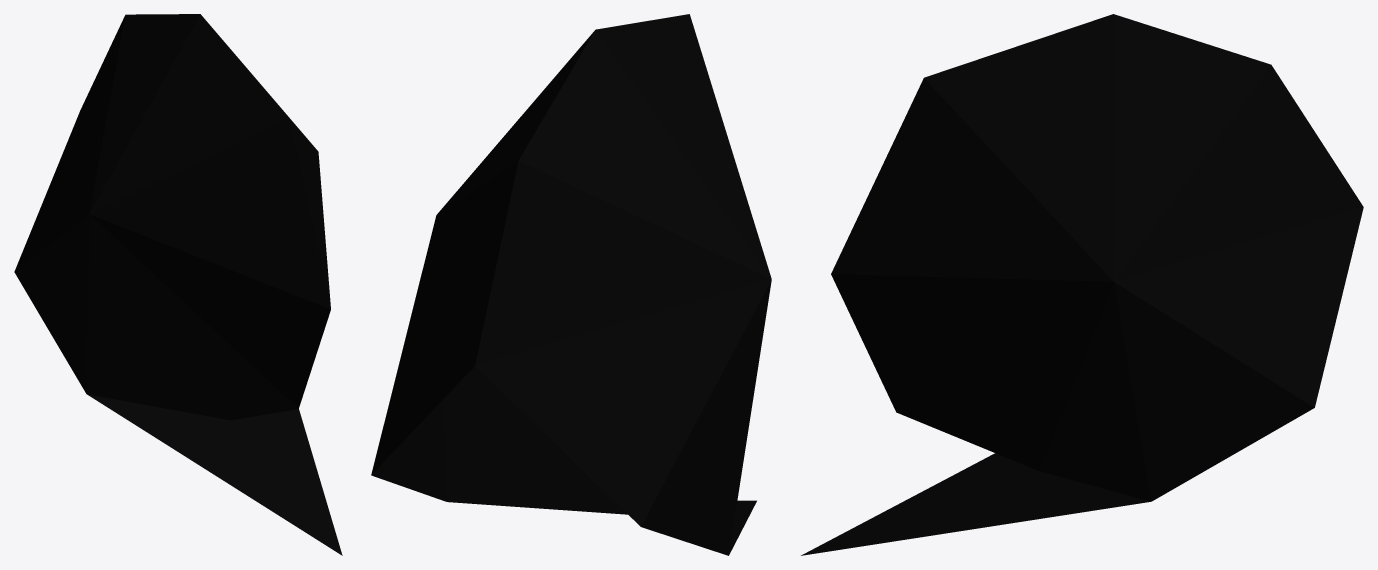
Rendered from 0464_weiqiu.glb.
3 renders of one model, left to right at view 1: azimuth 30°, elevation 25°; view 2: azimuth 150°, elevation 25°; view 3: azimuth 270°, elevation 25°, orthographic. The views are drawn at different scales.
Bounding box in the file's own units: 1.23 × 2.2 × 2.1.
1 material, 1 textured.
